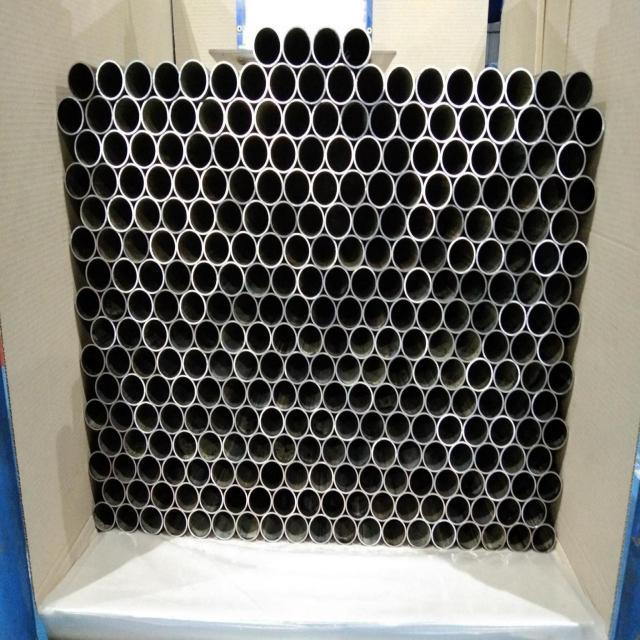pipe: (282, 24, 313, 67), (445, 65, 476, 108), (252, 24, 283, 66), (385, 64, 416, 106), (312, 24, 342, 67), (239, 60, 269, 103), (297, 61, 327, 104), (355, 62, 385, 105), (415, 64, 445, 107), (475, 66, 505, 109), (505, 66, 535, 109), (534, 67, 564, 110), (340, 98, 370, 141), (457, 101, 487, 144), (341, 25, 371, 67), (209, 60, 239, 102), (268, 62, 298, 104), (326, 62, 356, 104), (564, 69, 594, 111), (398, 100, 428, 142), (428, 101, 458, 143), (516, 103, 546, 145), (545, 104, 575, 146), (575, 105, 605, 147), (180, 58, 209, 101), (312, 98, 341, 141), (66, 60, 96, 101), (368, 100, 398, 141), (487, 103, 517, 144), (381, 135, 411, 176), (410, 135, 440, 176), (469, 137, 499, 178), (498, 138, 528, 179), (527, 139, 557, 180), (226, 96, 255, 138), (283, 97, 312, 139), (55, 95, 85, 135), (440, 137, 470, 177), (557, 140, 587, 180), (423, 170, 453, 210), (452, 171, 482, 211), (481, 172, 511, 212), (510, 172, 540, 212), (96, 59, 125, 100), (124, 59, 153, 100), (85, 94, 114, 135), (113, 94, 142, 135), (141, 95, 170, 136), (169, 95, 198, 136), (197, 96, 226, 137), (254, 98, 283, 139), (297, 134, 326, 175), (325, 134, 354, 175), (353, 134, 382, 175), (153, 59, 181, 101), (435, 203, 465, 242), (464, 205, 494, 244), (129, 129, 158, 169), (213, 131, 242, 171), (241, 132, 270, 172), (311, 168, 340, 208), (366, 169, 395, 209), (394, 169, 423, 209), (539, 173, 568, 213), (269, 132, 297, 173), (145, 163, 174, 202), (228, 165, 257, 204), (255, 167, 284, 206), (568, 175, 597, 214), (493, 205, 522, 244), (521, 206, 550, 245), (550, 206, 579, 245), (419, 235, 448, 274), (504, 237, 533, 276), (532, 238, 561, 277), (102, 128, 130, 168), (157, 129, 185, 169), (185, 131, 213, 171), (200, 164, 228, 204), (339, 168, 367, 208), (447, 236, 476, 274), (476, 237, 505, 275), (560, 239, 589, 277), (487, 269, 516, 307), (74, 128, 102, 167), (91, 162, 119, 201), (118, 162, 146, 201), (173, 164, 201, 203), (283, 167, 311, 206), (134, 195, 162, 234), (188, 197, 216, 236), (215, 198, 243, 237), (270, 200, 298, 239), (297, 200, 325, 239), (324, 201, 352, 240), (352, 202, 380, 241), (379, 202, 407, 241), (407, 202, 435, 241), (459, 268, 488, 305), (543, 271, 572, 308), (80, 194, 108, 232), (106, 194, 134, 232), (161, 196, 189, 234), (243, 199, 271, 237), (96, 225, 124, 263), (122, 226, 150, 264), (149, 227, 177, 265), (176, 228, 204, 266), (203, 229, 231, 267), (230, 230, 258, 268), (337, 233, 365, 271), (364, 234, 392, 272), (391, 235, 419, 273), (65, 161, 92, 200), (470, 299, 499, 335), (256, 231, 284, 268), (283, 232, 311, 269), (164, 258, 192, 295), (217, 260, 245, 297), (244, 261, 272, 298), (297, 263, 325, 300), (376, 266, 404, 303), (404, 266, 432, 303), (431, 267, 459, 304), (515, 270, 543, 307), (443, 297, 471, 334), (526, 300, 554, 337), (554, 301, 582, 338), (311, 233, 338, 271), (205, 290, 233, 326), (389, 296, 417, 332), (416, 297, 444, 333), (499, 300, 527, 336), (427, 326, 455, 362), (454, 327, 482, 363), (482, 328, 510, 364), (509, 330, 537, 366), (537, 330, 565, 366), (138, 257, 165, 294), (191, 259, 218, 296), (271, 262, 298, 299), (324, 264, 351, 301), (350, 265, 377, 302), (493, 358, 521, 393), (520, 360, 548, 395), (503, 387, 531, 422), (531, 388, 559, 423), (70, 226, 97, 262), (112, 257, 139, 293), (75, 286, 102, 322), (127, 287, 154, 323), (153, 288, 180, 324), (179, 289, 206, 325), (258, 292, 285, 328), (284, 293, 311, 329), (336, 295, 363, 331), (363, 296, 390, 332), (142, 316, 169, 352), (245, 320, 272, 356), (387, 353, 414, 389), (413, 355, 440, 391), (439, 355, 466, 391), (384, 410, 411, 445), (410, 411, 437, 446), (436, 412, 463, 447), (232, 291, 259, 326), (310, 294, 337, 329), (194, 319, 221, 354), (220, 320, 247, 355), (271, 322, 298, 357), (297, 323, 324, 358), (323, 324, 350, 359), (349, 324, 376, 359), (375, 325, 402, 360), (401, 326, 428, 361), (131, 345, 158, 380), (156, 346, 183, 381), (182, 347, 209, 382), (284, 350, 311, 385), (309, 351, 336, 386), (335, 352, 362, 387), (361, 353, 388, 388), (466, 357, 493, 392), (547, 360, 574, 395), (373, 381, 400, 416), (399, 383, 426, 418), (425, 384, 452, 419), (451, 385, 478, 420), (477, 386, 504, 421), (86, 256, 112, 292), (101, 286, 127, 322), (463, 413, 490, 447), (542, 416, 569, 450), (116, 316, 142, 351), (168, 318, 194, 353), (80, 343, 106, 378), (105, 344, 131, 379), (208, 348, 234, 383), (234, 348, 260, 383), (259, 349, 285, 384), (196, 375, 222, 410), (246, 376, 272, 411), (322, 379, 348, 414), (347, 380, 373, 415), (334, 408, 361, 441), (489, 415, 516, 448), (515, 416, 542, 449), (371, 437, 398, 470), (396, 438, 423, 471), (422, 440, 449, 473), (448, 441, 475, 474), (474, 442, 501, 475), (500, 443, 527, 476), (526, 443, 553, 476), (510, 470, 537, 503), (359, 409, 385, 443), (171, 374, 197, 408), (221, 376, 247, 410), (272, 378, 298, 412), (297, 379, 323, 413), (91, 315, 116, 350), (521, 496, 548, 528), (134, 401, 160, 434), (234, 405, 260, 438), (259, 405, 285, 438), (284, 406, 310, 439), (247, 432, 273, 465), (271, 433, 297, 466), (296, 434, 322, 467), (321, 435, 347, 468), (346, 436, 372, 469), (308, 461, 334, 494), (333, 461, 359, 494), (383, 463, 409, 496), (408, 465, 434, 498), (434, 467, 460, 500), (459, 467, 485, 500), (485, 469, 511, 502), (536, 470, 562, 503), (95, 372, 121, 405), (120, 373, 146, 406), (145, 374, 171, 407), (108, 399, 134, 432), (445, 494, 471, 526), (470, 495, 496, 527), (495, 495, 521, 527), (506, 521, 532, 553), (159, 402, 184, 435), (185, 403, 210, 436), (210, 403, 235, 436), (310, 407, 335, 440), (98, 425, 123, 458), (173, 429, 198, 462), (198, 430, 223, 463), (223, 431, 248, 464), (186, 456, 211, 489), (211, 457, 236, 490), (235, 457, 260, 490), (260, 459, 285, 492), (284, 459, 309, 492), (358, 462, 383, 495), (199, 482, 224, 515), (223, 483, 248, 516), (272, 486, 297, 519), (296, 486, 321, 519), (321, 487, 346, 520), (370, 489, 395, 522), (236, 510, 261, 543), (382, 516, 407, 549), (407, 517, 432, 550), (532, 522, 557, 555), (85, 398, 110, 431), (136, 454, 162, 485), (456, 520, 482, 551), (481, 521, 507, 552), (123, 427, 148, 459), (148, 428, 173, 460), (162, 455, 187, 487), (248, 485, 273, 517), (345, 488, 370, 520), (395, 491, 420, 523), (420, 492, 445, 524), (284, 512, 309, 544), (432, 518, 457, 550), (260, 511, 284, 544), (112, 452, 137, 483), (102, 476, 127, 507), (126, 478, 151, 509), (151, 480, 176, 511), (175, 482, 200, 513), (163, 507, 188, 538), (188, 508, 213, 539), (333, 516, 358, 547), (358, 516, 383, 547), (88, 451, 112, 483), (212, 509, 236, 541), (115, 502, 139, 533), (139, 505, 163, 536), (309, 514, 333, 545), (93, 501, 116, 532)
